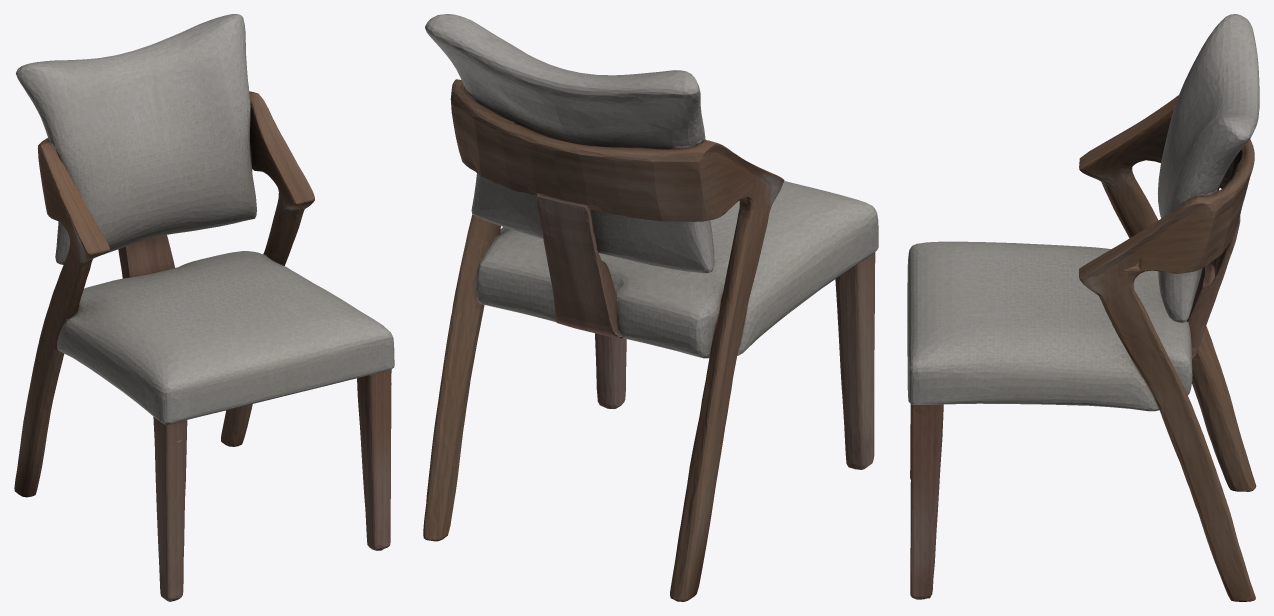
3 views of the same model, side by side, from view 1: azimuth 30°, elevation 25°; view 2: azimuth 150°, elevation 25°; view 3: azimuth 270°, elevation 25° (orthographic). The views are drawn at different scales.
Visible parts, largest first — view 1: world; view 2: world; view 3: world.
Boxes of the visible parts, <box> form: world: <box>14,14,394,601</box>; world: <box>423,14,878,601</box>; world: <box>907,14,1259,601</box>.
Size of the model in its own units: 0.5699 by 1 by 0.6749.
Materials: 1 (1 with a texture image).
